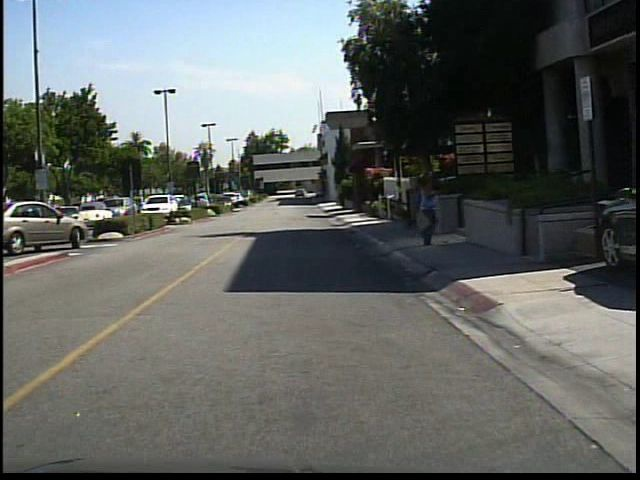person: (410, 165, 443, 250)
